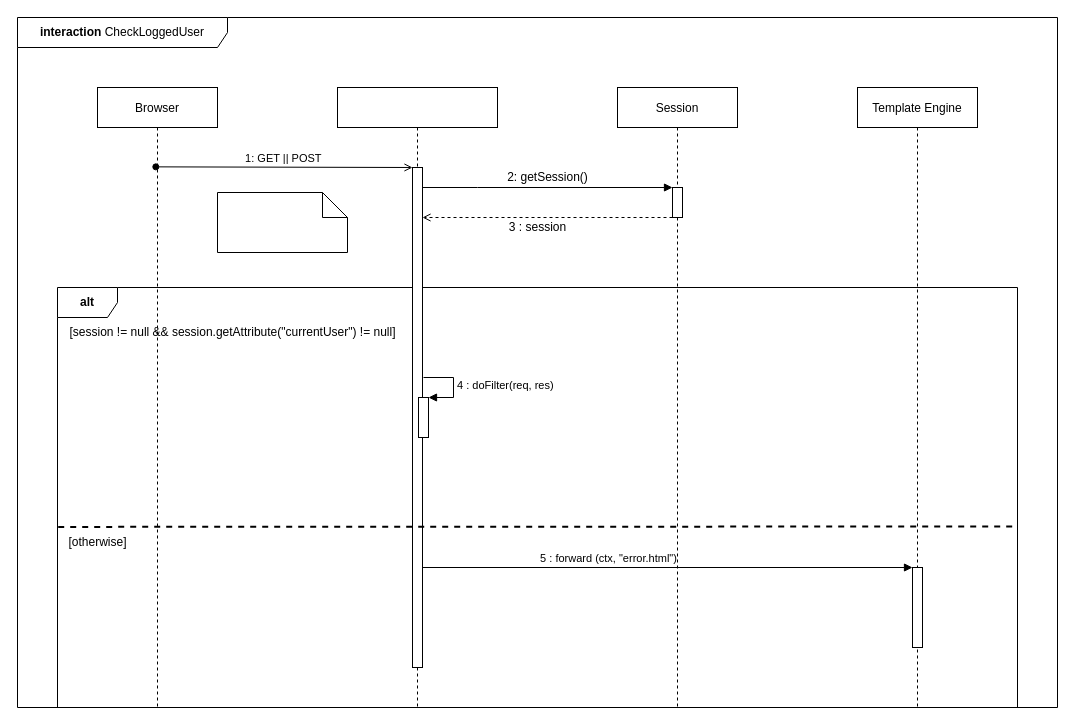
Some shapes in this 1075 by 725 pixel diagram are drawn without their labels. The centre of each missing label's shape, as x and y in pixels:
"CheckLoggedUser" belongs at point (417, 397).
"to protected urls" belongs at point (282, 222).
